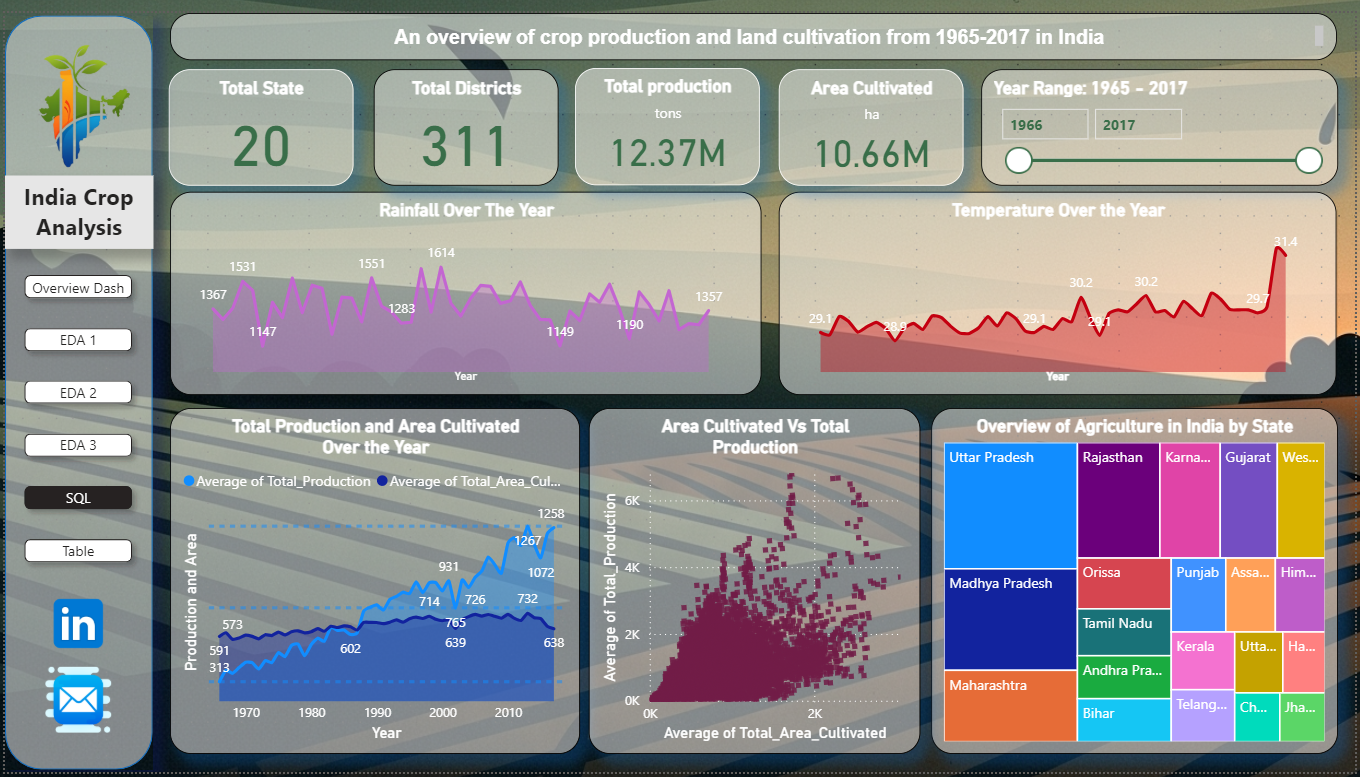

Layout of this report page (visuals, bound fields, positions):
{"tool":"powerbi","page":{"name":"GD1","canvas":[1280,720],"ordinal":1},"visuals":[{"type":"group","id":"g1","title":"Side panel Top","box":[0,1.4,140.5,716.1],"z":0,"group":"g3"},{"type":"shape","title":"side panel Shape","box":[0,2.5,140,715],"z":0,"group":"g1"},{"type":"card","title":"Total State","fields":{"Values":["Count(india_agri indiacropdata.State_Name)"]},"box":[154.9,53.8,175,110],"z":0,"group":"g2"},{"type":"textbox","box":[155.8,0,1106.1,44.5],"z":1000,"group":"g2"},{"type":"image","title":"Dashboard logo","box":[0,1.4,140.5,167],"z":1000,"group":"g1"},{"type":"image","title":"LinkedIn logo","box":[10,542.5,120,72.5],"z":1000,"group":"g3"},{"type":"textbox","title":"side panel head","box":[0,154.4,140.5,69.6],"z":2000,"group":"g1"},{"type":"lineChart","title":"Total Production and Area Cultivated Over the Year","fields":{"Category":["india_agri indiacropdata.Year"],"Y":["Avg(india_agri_data.Total_Production)","Avg(india_agri_data.Total_Area_Cultivated)"]},"box":[155.8,374.6,389,328.3],"z":2000,"group":"g2"},{"type":"image","title":"Mail Logo","box":[10,615,120,72.5],"z":2000,"group":"g3"},{"type":"bookmarkNavigator","box":[10,239.7,120,293.8],"z":3000,"group":"g1"},{"type":"treemap","title":"Overview of Agriculture in India by State","fields":{"Group":["india_agri_data.State_Name"],"Values":["Count(india_agri_data.Dist_Name)"]},"box":[878,374.6,385.3,328.3],"z":3000,"group":"g2"},{"type":"group","id":"g2","title":"Overview Dash","box":[154.9,0,1108.4,702.9],"z":4000},{"type":"slicer","title":"Year Range: 1965 - 2017","fields":{"Values":["india_agri_data.Year"]},"box":[924.8,53.3,338.3,110],"z":4000,"group":"g2"},{"type":"scatterChart","title":"Area Cultivated Vs Total Production","fields":{"Y":["Avg(india_agri_data.Total_Production)"],"Category":["india_agri_data.Total_Production"],"X":["Avg(india_agri_data.Total_Area_Cultivated)"]},"box":[553.4,374.6,314.7,328.3],"z":5000,"group":"g2"},{"type":"group","id":"g3","title":"Side Panel","box":[0,1.4,140.5,716.1],"z":6000},{"type":"lineChart","title":"Rainfall Over The Year","fields":{"Category":["india_rainfall_data.Year"],"Y":["Sum(india_rainfall_data.Annual_Rainfall(mm))"]},"box":[156.3,169.3,560.9,192.7],"z":6000,"group":"g2"},{"type":"card","title":"Total Districts","fields":{"Values":["Count(india_agri_data.Dist_Name)"]},"box":[349,53.2,175,110.1],"z":7000,"group":"g2"},{"type":"lineChart","title":"Temperature Over the Year","fields":{"Category":["india_rainfall_data.Year"],"Y":["Sum(india_temp_data.Annual Temp deg C)"]},"box":[732.7,169.3,529.1,192.7],"z":8000,"group":"g2"},{"type":"card","title":"Total production","fields":{"Values":["Sum(india_agri_data.Total_Production)"]},"box":[540.3,52.7,175,111.3],"z":9000,"group":"g2"},{"type":"card","title":"Area Cultivated","fields":{"Values":["Sum(india_agri_data.Total_Area_Cultivated)"]},"box":[733,53.2,175,110.1],"z":10000,"group":"g2"}]}

Visuals, with their boxes in screenshot pixels (x1, y1, x2, y2), scaled from the page's 1280x720 canvas onto the 1360x777 screenshot:
"Side panel Top" group: bbox=(0, 2, 149, 774)
"side panel Shape" shape: bbox=(0, 3, 149, 774)
"Total State" card: bbox=(165, 58, 351, 177)
textbox: bbox=(166, 0, 1341, 48)
"Dashboard logo" image: bbox=(0, 2, 149, 182)
"LinkedIn logo" image: bbox=(11, 585, 138, 664)
"side panel head" textbox: bbox=(0, 167, 149, 242)
"Total Production and Area Cultivated Over the Year" lineChart: bbox=(166, 404, 579, 759)
"Mail Logo" image: bbox=(11, 664, 138, 742)
bookmarkNavigator: bbox=(11, 259, 138, 576)
"Overview of Agriculture in India by State" treemap: bbox=(933, 404, 1342, 759)
"Overview Dash" group: bbox=(165, 0, 1342, 759)
"Year Range: 1965 - 2017" slicer: bbox=(983, 58, 1342, 176)
"Area Cultivated Vs Total Production" scatterChart: bbox=(588, 404, 922, 759)
"Side Panel" group: bbox=(0, 2, 149, 774)
"Rainfall Over The Year" lineChart: bbox=(166, 183, 762, 391)
"Total Districts" card: bbox=(371, 57, 557, 176)
"Temperature Over the Year" lineChart: bbox=(778, 183, 1341, 391)
"Total production" card: bbox=(574, 57, 760, 177)
"Area Cultivated" card: bbox=(779, 57, 965, 176)
